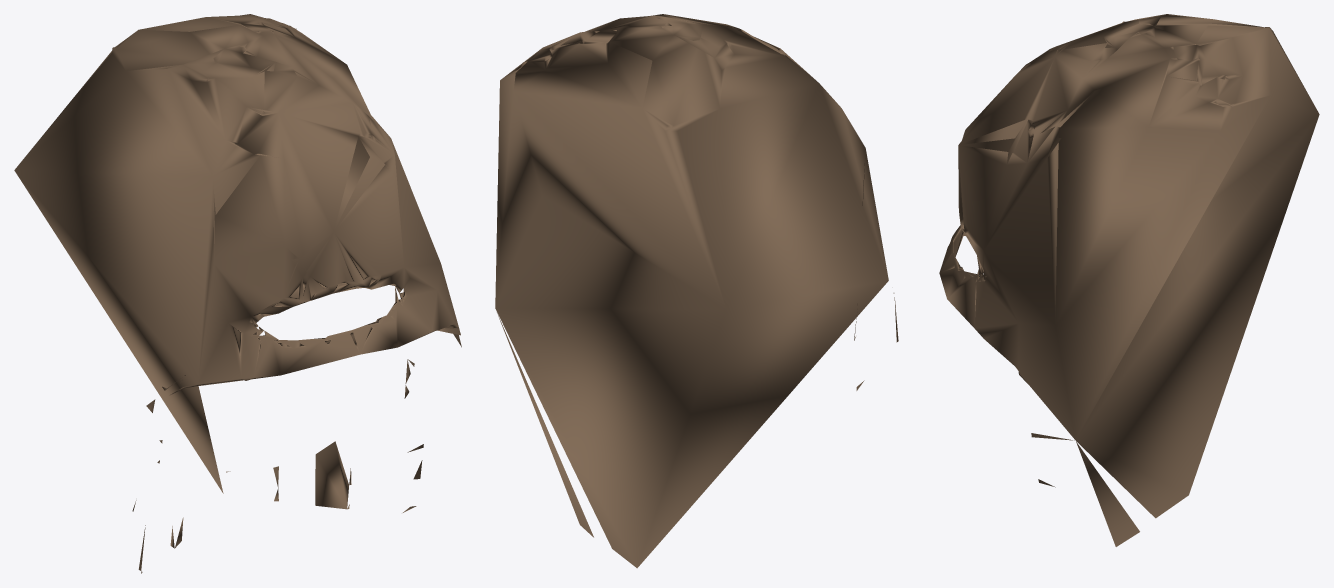
Rendered from hair32-female-bob-a3.glb.
The picture shows the model from 3 angles, left to right: view 1: azimuth 30°, elevation 25°; view 2: azimuth 150°, elevation 25°; view 3: azimuth 270°, elevation 25°; orthographic projection. The views are drawn at different scales.
Parts seen in each view (by area): view 1: hair32-bob; view 2: hair32-bob; view 3: hair32-bob.
Boxes of the visible parts, x1=… form: hair32-bob: x1=14, y1=14, x2=461, y2=573; hair32-bob: x1=495, y1=14, x2=898, y2=568; hair32-bob: x1=939, y1=14, x2=1319, y2=546.
Bounding box in the file's own units: 0.1611 × 0.2116 × 0.1533.
